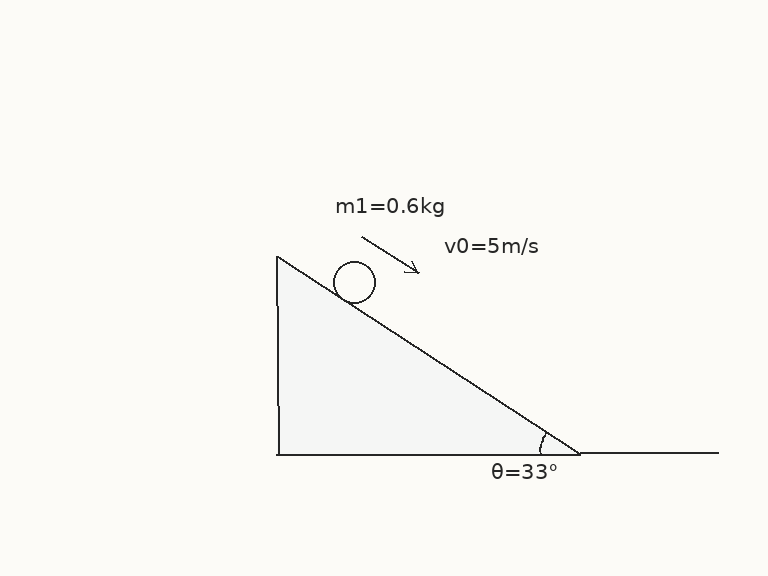ball: (331, 259, 377, 305)
ramp: (275, 255, 582, 456)
